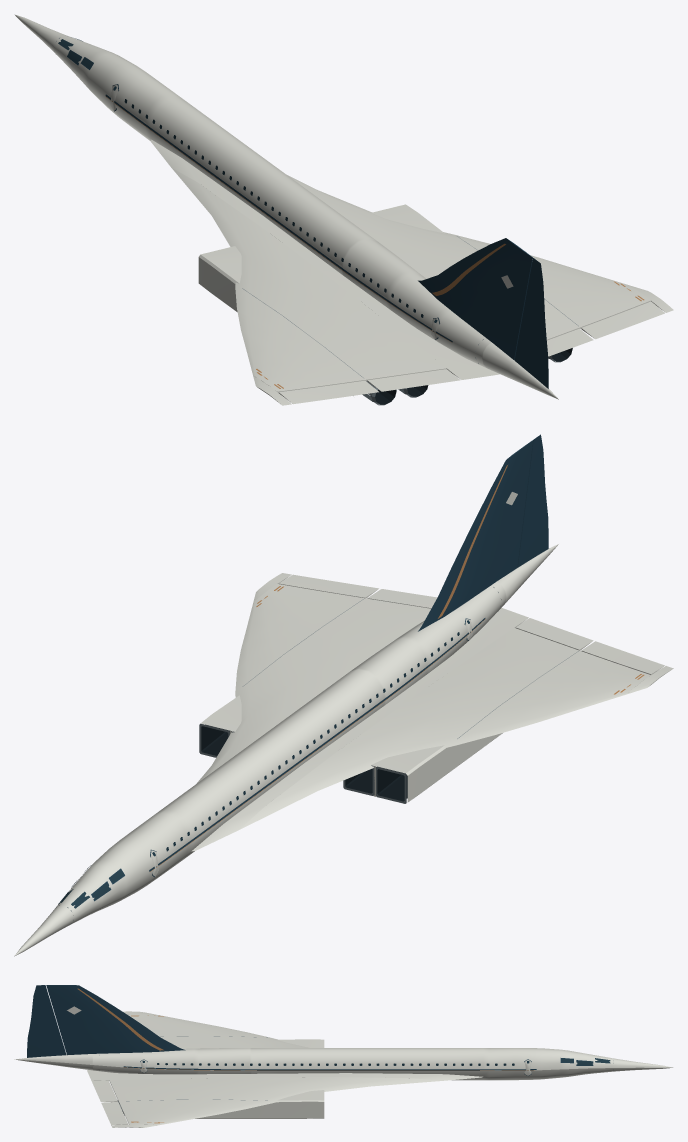
File: player-concorde-mobile-v1.glb
The picture shows the model from 3 angles, top to bottom: view 1: azimuth 30°, elevation 25°; view 2: azimuth 150°, elevation 25°; view 3: azimuth 270°, elevation 25°; orthographic projection. The views are drawn at different scales.
Visible parts, largest first — view 1: hull, trim, rudder-skin, aileron-right-skin, aileron-left-skin, elevator-left-skin, accent, elevator-right-skin, dark; view 2: hull, trim, rudder-skin, dark, aileron-right-skin, aileron-left-skin, elevator-left-skin, metal, accent, elevator-right-skin; view 3: hull, trim, rudder-skin, accent, aileron-right-skin, cabin, elevator-right-skin.
Part boxes in pixels (x1,y1,x2,y2): hull: [14, 14, 673, 405]; trim: [67, 50, 532, 359]; rudder-skin: [514, 258, 548, 388]; aileron-right-skin: [581, 301, 664, 339]; aileron-left-skin: [278, 380, 378, 404]; elevator-left-skin: [367, 369, 460, 391]; accent: [105, 96, 644, 388]; elevator-right-skin: [547, 328, 593, 356]; dark: [370, 348, 572, 404]; hull: [14, 492, 673, 956]; trim: [72, 440, 532, 901]; rudder-skin: [517, 434, 548, 567]; dark: [201, 724, 407, 801]; aileron-right-skin: [278, 574, 378, 598]; aileron-left-skin: [581, 641, 664, 674]; elevator-left-skin: [515, 618, 593, 650]; metal: [56, 587, 578, 924]; accent: [150, 465, 644, 871]; elevator-right-skin: [367, 589, 437, 608]; hull: [14, 1006, 672, 1127]; trim: [46, 985, 593, 1075]; rudder-skin: [27, 985, 66, 1057]; accent: [77, 988, 534, 1123]; aileron-right-skin: [101, 1102, 128, 1125]; cabin: [142, 1060, 529, 1065]; elevator-right-skin: [91, 1080, 117, 1102].
Size of the model in its own units: 25.56 by 10.72 by 61.66.
